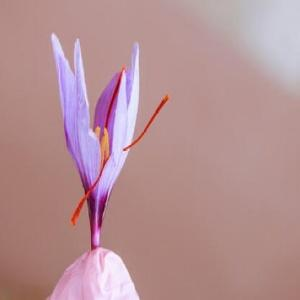Saffron: (52, 32, 141, 250)
